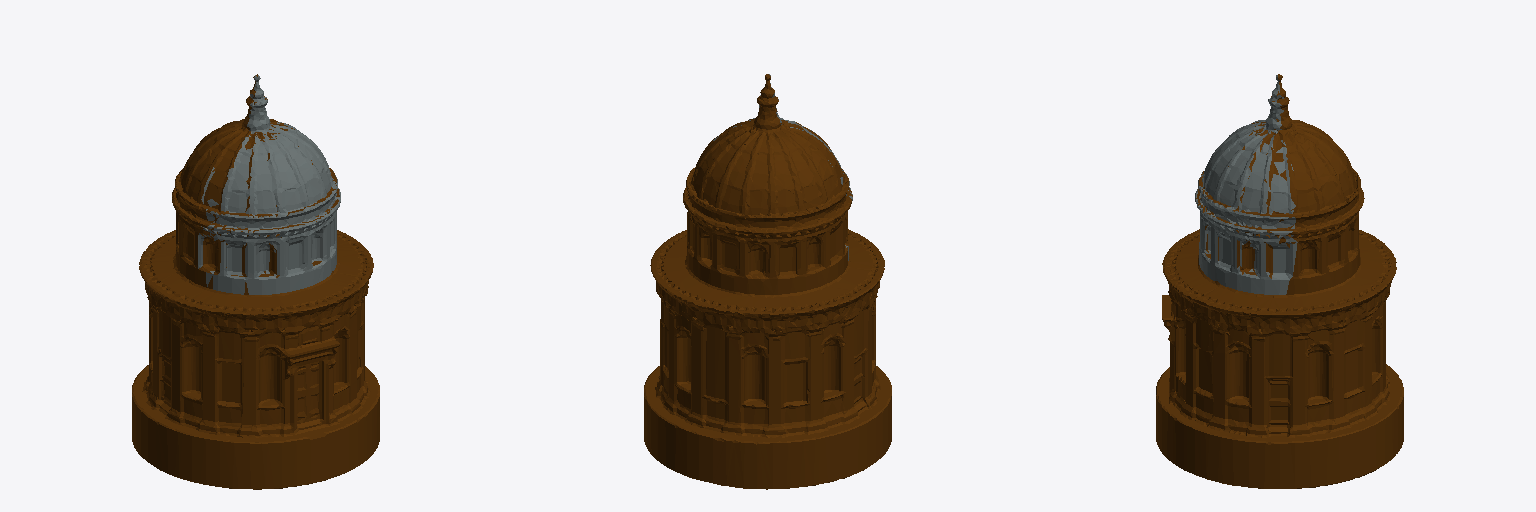
Rendered from stadt.obj.
The picture shows the model from 3 angles: view 1: azimuth 30°, elevation 25°; view 2: azimuth 150°, elevation 25°; view 3: azimuth 270°, elevation 25°; orthographic projection.
Parts seen in each view (by area): view 1: Catan_Player_Roman_Castle_Mesh; view 2: Catan_Player_Roman_Castle_Mesh; view 3: Catan_Player_Roman_Castle_Mesh.
Boxes of the visible parts, x1,y1,x2,y2 form: Catan_Player_Roman_Castle_Mesh: [132, 74, 379, 489]; Catan_Player_Roman_Castle_Mesh: [644, 74, 891, 489]; Catan_Player_Roman_Castle_Mesh: [1156, 74, 1403, 488].
Size of the model in its own units: 15 by 24.18 by 14.97.